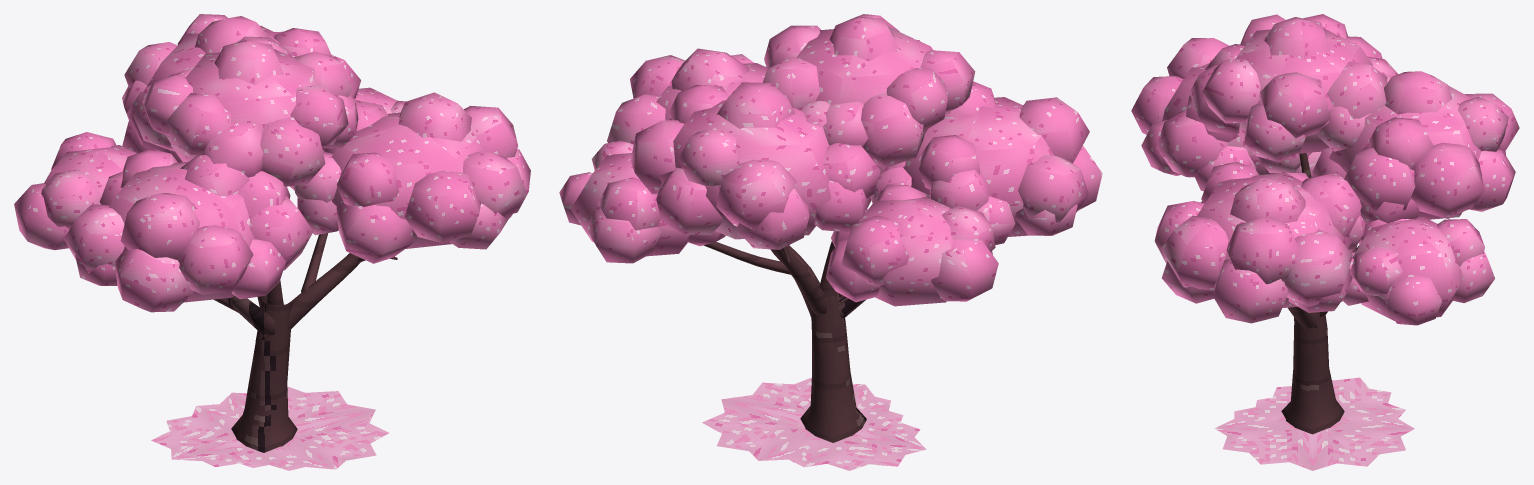
File: p_bi_blossom.glb
The picture shows the model from 3 angles, left to right: view 1: azimuth 30°, elevation 25°; view 2: azimuth 150°, elevation 25°; view 3: azimuth 270°, elevation 25°; orthographic projection. The views are drawn at different scales.
Visible parts, largest first — view 1: p_bi_blossom_lod0; view 2: p_bi_blossom_lod0; view 3: p_bi_blossom_lod0.
Boxes of the visible parts, x1,y1,x2,y2 form: p_bi_blossom_lod0: (14, 14, 530, 470); p_bi_blossom_lod0: (559, 14, 1102, 470); p_bi_blossom_lod0: (1131, 14, 1519, 470).
Size of what is drawn, in the model's own units: 6.99 by 6.05 by 5.45.
2 materials, 2 textured.
